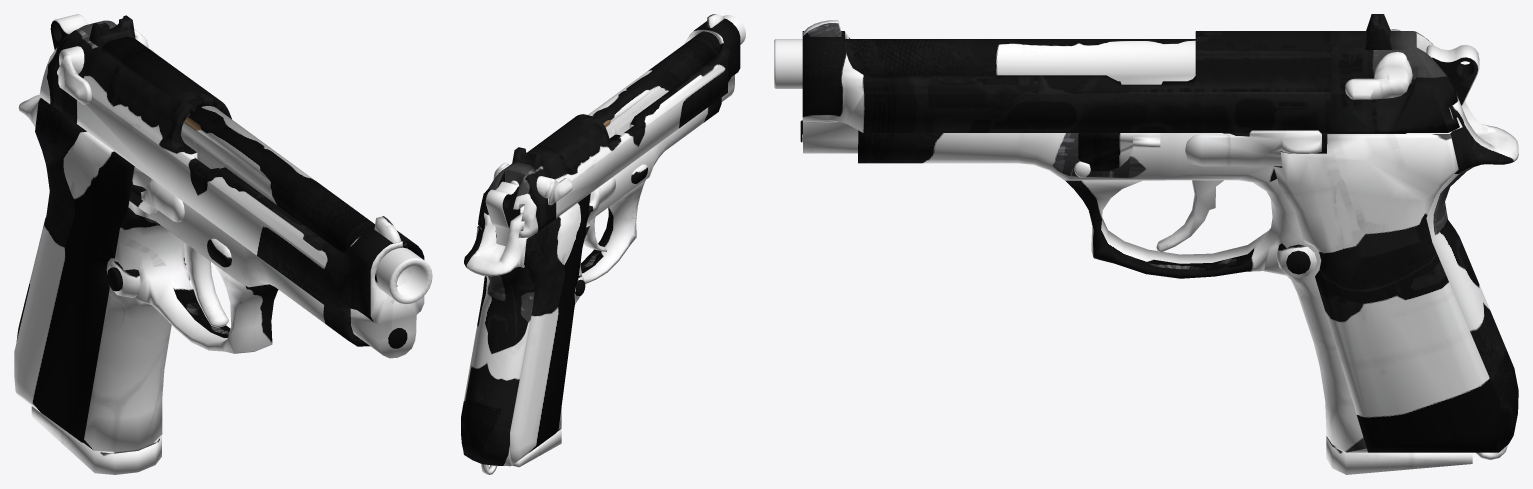
The model's file is Weapons_M9Auto_LOD0.glb.
3 views of the same model, side by side, from view 1: azimuth 30°, elevation 25°; view 2: azimuth 150°, elevation 25°; view 3: azimuth 270°, elevation 25° (orthographic). The views are drawn at different scales.
Visible parts, largest first — view 1: Hoodie; view 2: Hoodie; view 3: Hoodie.
Boxes of the visible parts, x1,y1,x2,y2 form: Hoodie: (14,14,432,474); Hoodie: (461,14,745,474); Hoodie: (774,14,1518,474).
Bounding box in the file's own units: 0.0362 × 0.1458 × 0.2256.
Materials: 1 (1 with a texture image).
